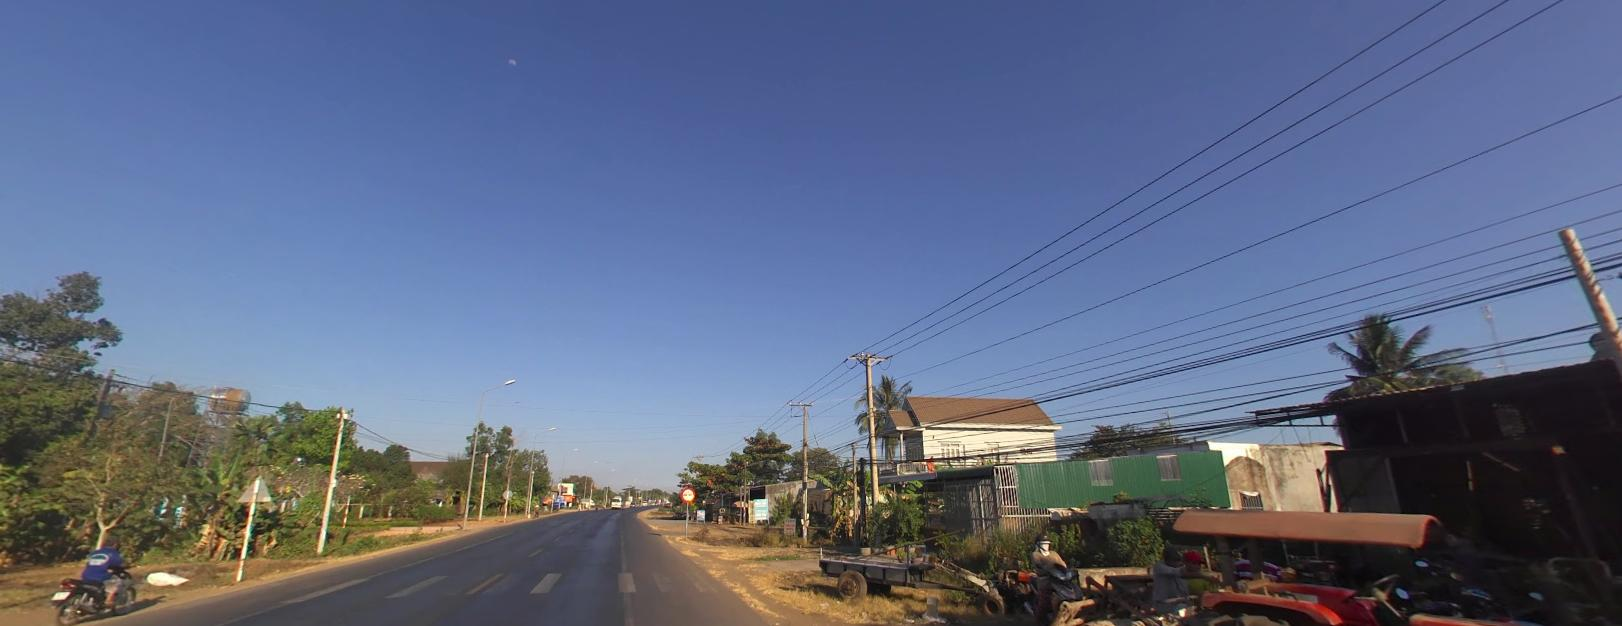Cam con lai: (680, 486, 695, 501), (680, 486, 695, 500)
